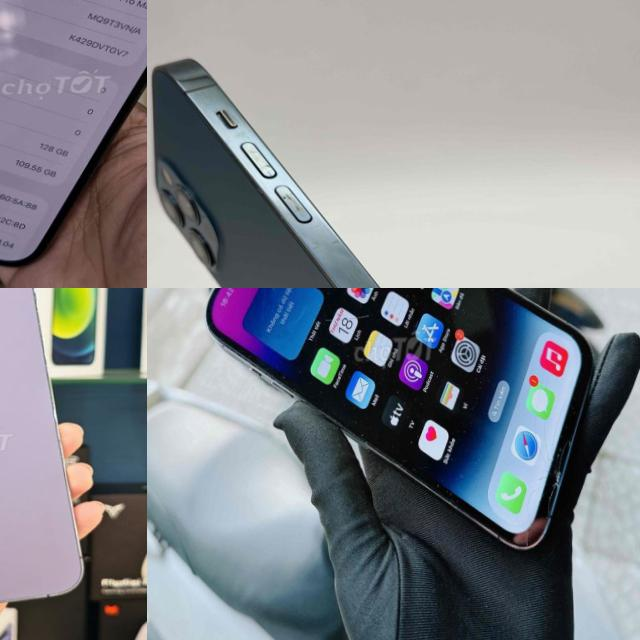gen_12_13: (149, 50, 568, 288)
gen_14: (201, 288, 597, 561), (0, 0, 147, 280), (0, 288, 90, 620)
